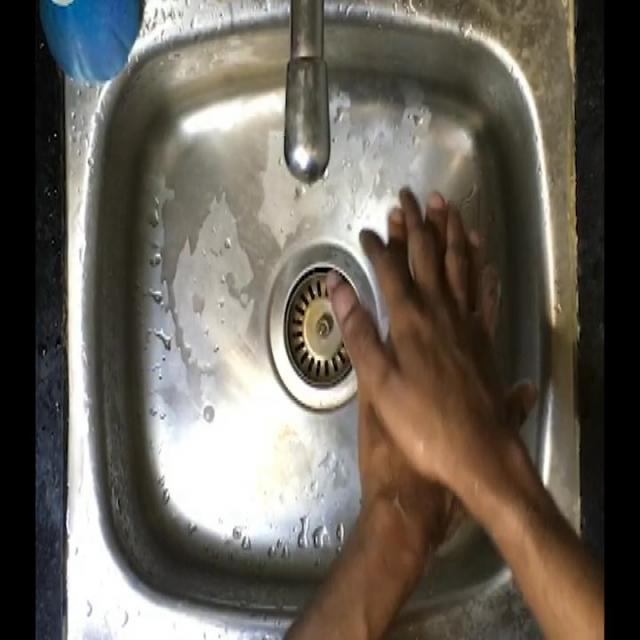step_2: (324, 178, 539, 514)
